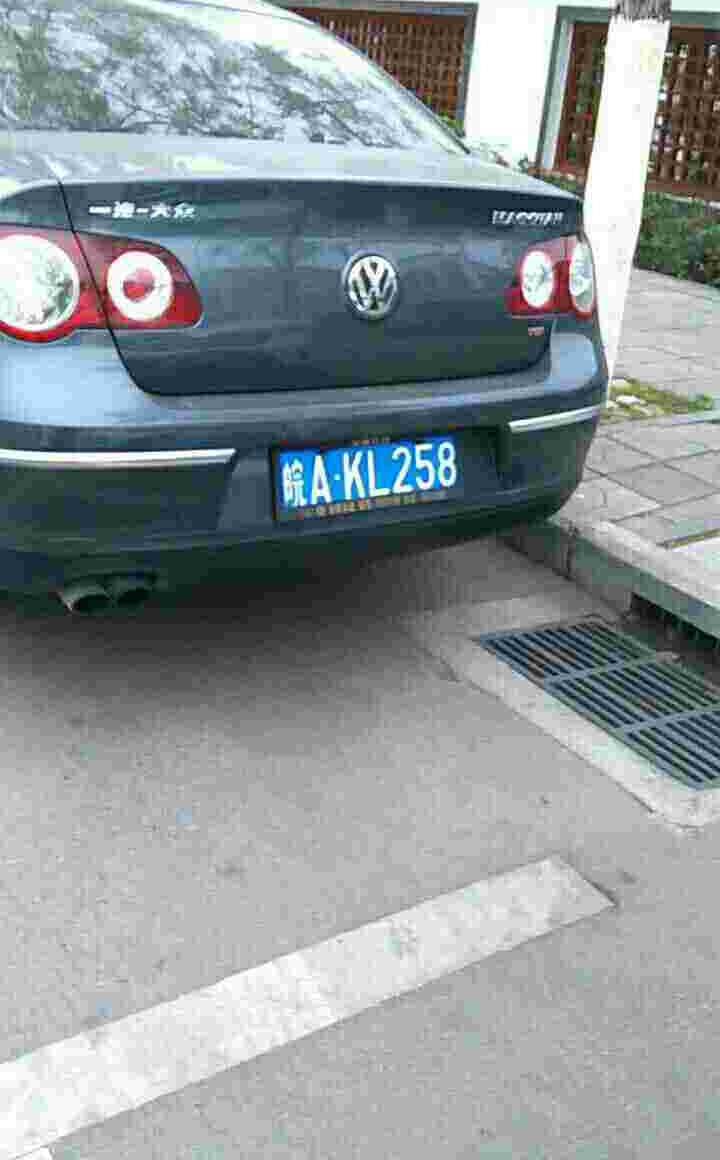license_plate: (278, 442, 465, 511)
